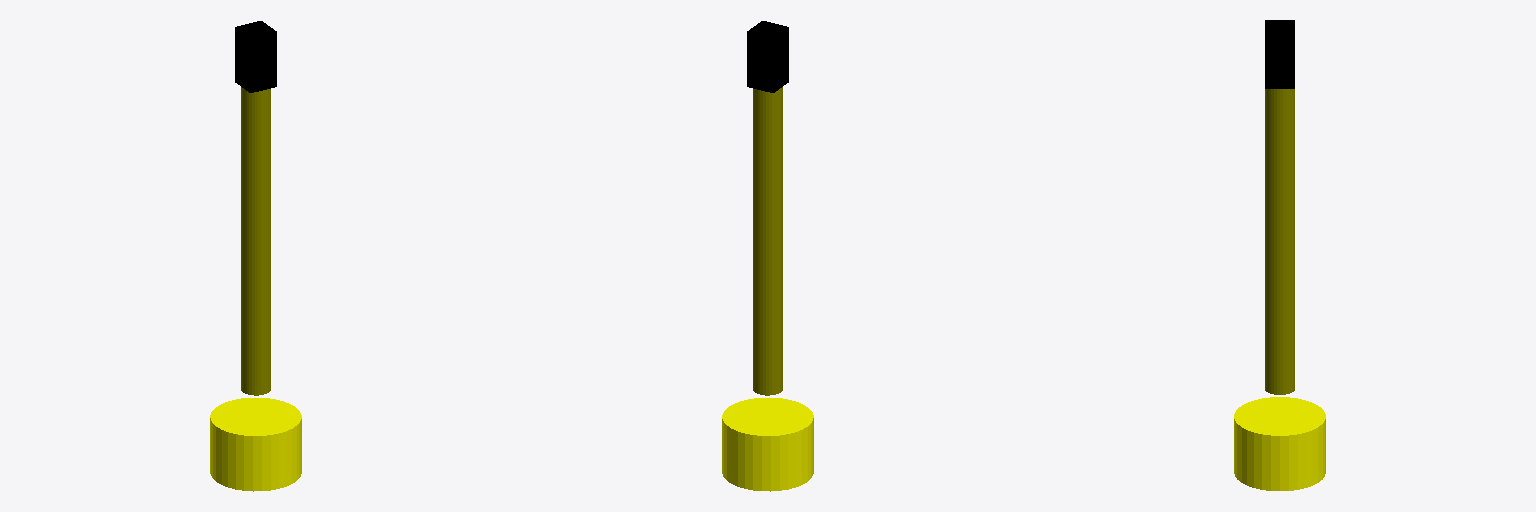
robot.urdf — brazo_robotico_con_gripper:
<?xml version="1.0"?>
<robot name="brazo_robotico_con_gripper">
  <!-- Definición de materiales -->
  <material name="amarillo">
      <color rgba="1 1 0 1"/>
  </material>
  <material name="negro">
      <color rgba="0 0 0 1"/>
  </material>
  <material name="plomo">
      <color rgba="0.6 0.6 0 1"/>
  </material>
  
  <!-- Base del robot con movimiento torsional -->
  <link name="base_link">
      <visual>
          <geometry>
              <cylinder length="0.2" radius="0.15"/>
          </geometry>
          <origin xyz="0 0 0" rpy="0 0 0"/>
          <material name="amarillo"/>
      </visual>
  </link>

  <!-- Articulación de la base (torsional) -->
  <joint name="base_to_articulacion1" type="revolute">
      <parent link="base_link"/>
      <child link="articulacion1_link"/>
      <origin xyz="0 0 0.2" rpy="0 0 0"/>
      <axis xyz="0 0 1"/> <!-- Rotación alrededor del eje Z -->
      <limit effort="411" lower="-3.14" upper="3.14" velocity="1.57"/>
      <dynamics damping="60.0" friction="4.0"/>
  </joint>

  <!-- Primer segmento del brazo -->
  <link name="articulacion1_link">
      <visual>
          <geometry>
              <cylinder length="0.4" radius="0.05"/>
          </geometry>
          <origin xyz="0 0 0.2" rpy="0 0 0"/>
          <material name="plomo"/>
      </visual>
  </link>

  <!-- Articulación rotacional 1 -->
  <joint name="articulacion1_to_articulacion2" type="revolute">
      <parent link="articulacion1_link"/>
      <child link="articulacion2_link"/>
      <origin xyz="0 0 0.4" rpy="0 0 0"/>
      <axis xyz="1 0 0"/> <!-- Rotación alrededor del eje X -->
      <limit effort="50" velocity="1.0" lower="-1.57" upper="1.57"/>
  </joint>

  <!-- Segundo segmento del brazo -->
  <link name="articulacion2_link">
      <visual>
          <geometry>
              <cylinder length="0.4" radius="0.05"/>
          </geometry>
          <origin xyz="0 0 0.2" rpy="0 0 0"/>
          <material name="plomo"/>
      </visual>
  </link>

  <!-- Articulación rotacional 2 -->
  <joint name="articulacion2_to_efector" type="revolute">
      <parent link="articulacion2_link"/>
      <child link="efector_link"/>
      <origin xyz="0 0 0.5" rpy="0 0 0"/>
      <axis xyz="0 1 0"/> <!-- Rotación alrededor del eje Y -->
      <limit effort="50" velocity="1.0" lower="-1.57" upper="1.57"/>
  </joint>

  <!-- Efector final -->
  <link name="efector_link">
      <visual>
          <geometry>
              <cylinder length="0.4" radius="0.05"/>
          </geometry>
          <origin xyz="0 0 0.05" rpy="0 0 0"/>
          <material name="plomo"/>
      </visual>
  </link>

  <!-- Gripper -->
  <link name="gripper_link">
    <visual>
        <geometry>
            <box size="0.1 0.1 0.2"/> <!-- Tamaño del gripper más visible -->
        </geometry>
        <origin xyz="0 0 0.1" rpy="0 0 0"/>
        <material name="negro"/>
    </visual>
  </link>

  <!-- Articulación del gripper (prismática para abrir y cerrar) -->
  <joint name="gripper_joint" type="prismatic">
    <parent link="efector_link"/>
    <child link="gripper_link"/>
    <origin xyz="0 0 0.2" rpy="0 0 0"/>
    <axis xyz="0 1 0"/> <!-- Movimiento en el eje Y -->
    <limit effort="50" lower="-0.1" upper="0.1" velocity="0.2"/>
    <dynamics damping="0.1" friction="0.1"/>
  </joint>

</robot>

--- Render facts (derived) ---
The picture shows the robot from 3 angles, left to right: view 1: azimuth 30°, elevation 25°; view 2: azimuth 150°, elevation 25°; view 3: azimuth 270°, elevation 25°; orthographic projection.
Model brazo_robotico_con_gripper with 5 links and 4 joints (3 revolute, 1 prismatic), rooted at base_link, posed all joints at 0.
Visible links, largest first — view 1: base_link, articulacion1_link, articulacion2_link, gripper_link, efector_link; view 2: base_link, articulacion1_link, articulacion2_link, gripper_link, efector_link; view 3: base_link, articulacion1_link, articulacion2_link, efector_link, gripper_link.
Boxes of the visible links, x1,y1,x2,y2 form: base_link: [210, 398, 301, 491]; articulacion1_link: [241, 280, 270, 395]; articulacion2_link: [241, 170, 270, 284]; gripper_link: [235, 21, 276, 92]; efector_link: [241, 87, 270, 187]; base_link: [722, 398, 813, 491]; articulacion1_link: [753, 280, 782, 395]; articulacion2_link: [753, 170, 782, 284]; gripper_link: [747, 21, 788, 92]; efector_link: [753, 87, 782, 187]; base_link: [1234, 397, 1325, 490]; articulacion1_link: [1265, 279, 1294, 394]; articulacion2_link: [1265, 168, 1294, 283]; efector_link: [1265, 89, 1294, 185]; gripper_link: [1265, 20, 1294, 88].
Size in the robot's own frame: 0.3 by 0.3 by 1.6 metres.
Geometry: primitives only (box / cylinder / sphere), no mesh files.